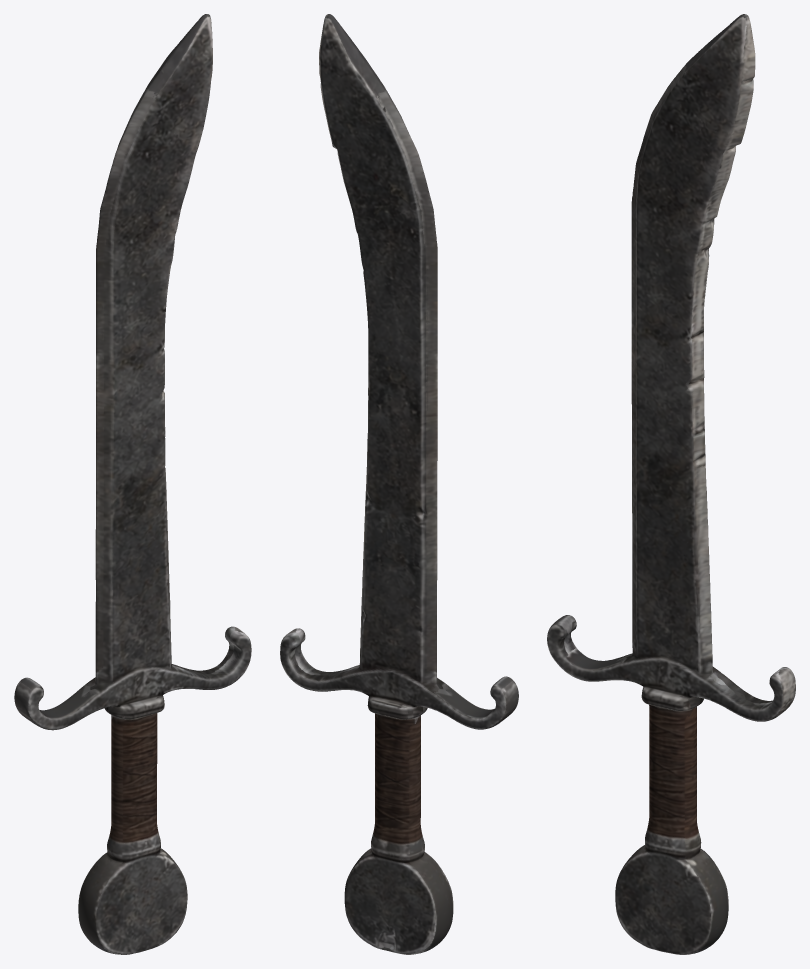
The model's file is brigand_blade.glb.
The picture shows the model from 3 angles, left to right: view 1: azimuth 30°, elevation 25°; view 2: azimuth 150°, elevation 25°; view 3: azimuth 330°, elevation 25°; orthographic projection. The views are drawn at different scales.
Visible parts, largest first — view 1: geometry_0; view 2: geometry_0; view 3: geometry_0.
Part boxes in pixels (bbox=[...]): geometry_0: bbox=[14, 14, 251, 954]; geometry_0: bbox=[280, 14, 518, 954]; geometry_0: bbox=[547, 14, 795, 954].
Bounding box in the file's own units: 0.258 × 0.99 × 0.0474.
Materials: 1 (1 with a texture image).
